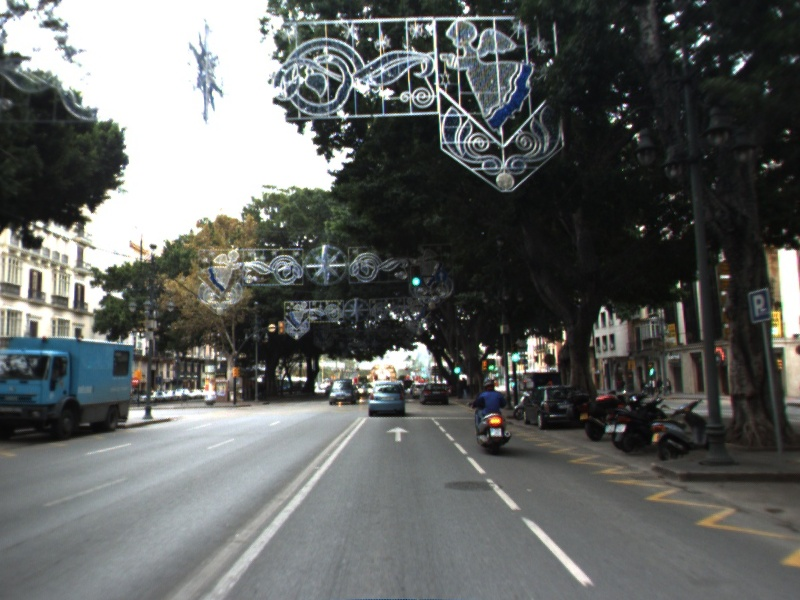STRAIGHT: (384, 424, 412, 444)
